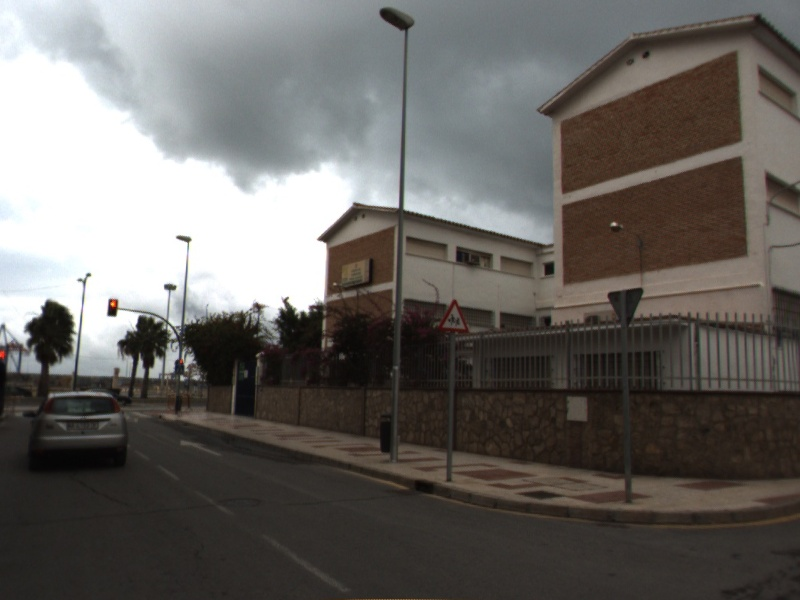STRAIGHT: (178, 437, 225, 458)
